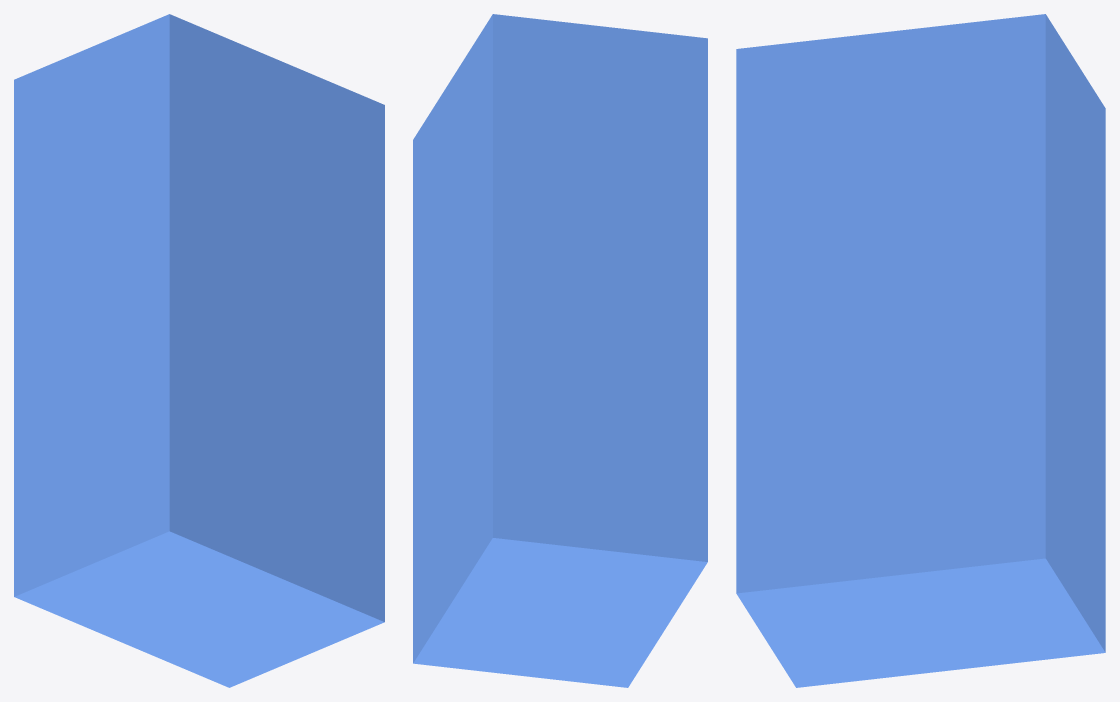
The model's file is sapphire-pillar.glb.
3 views of the same model, side by side, from view 1: azimuth 30°, elevation 25°; view 2: azimuth 150°, elevation 25°; view 3: azimuth 270°, elevation 25° (orthographic). The views are drawn at different scales.
Visible parts, largest first — view 1: SapphirePillar; view 2: SapphirePillar; view 3: SapphirePillar.
Part boxes in pixels (x1,y1,x2,y2): SapphirePillar: (14,14,384,687); SapphirePillar: (413,14,707,687); SapphirePillar: (736,14,1105,687).
Size of the model in its own units: 0.9641 by 1.89 by 1.16.
